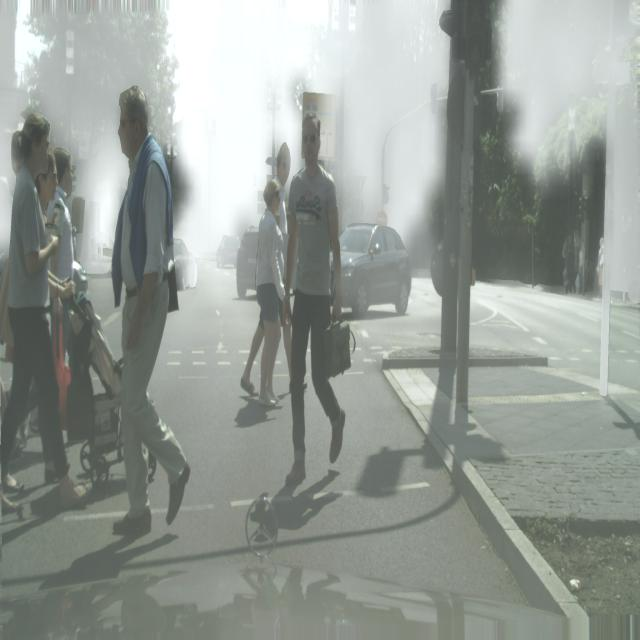person: (110, 84, 191, 541), (1, 114, 88, 509), (284, 115, 346, 487), (240, 180, 286, 406)
truck: (337, 219, 412, 317), (236, 227, 259, 299), (172, 237, 198, 291), (216, 234, 241, 268)
